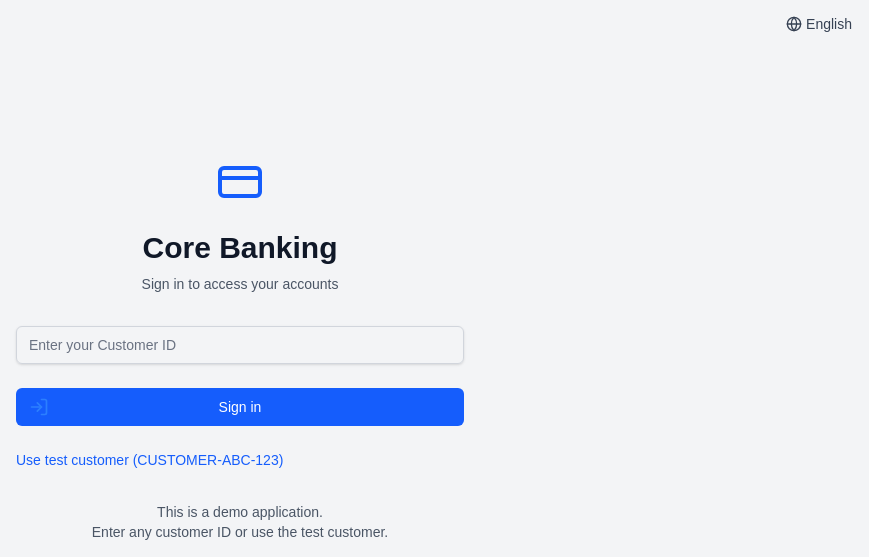
LoginForm › shows loading state during sign in
Type "CUSTOMER-ABC-123" into the field with placeholder "Enter your Customer ID" at point(240, 345), box x1=16 y1=326 x2=464 y2=364
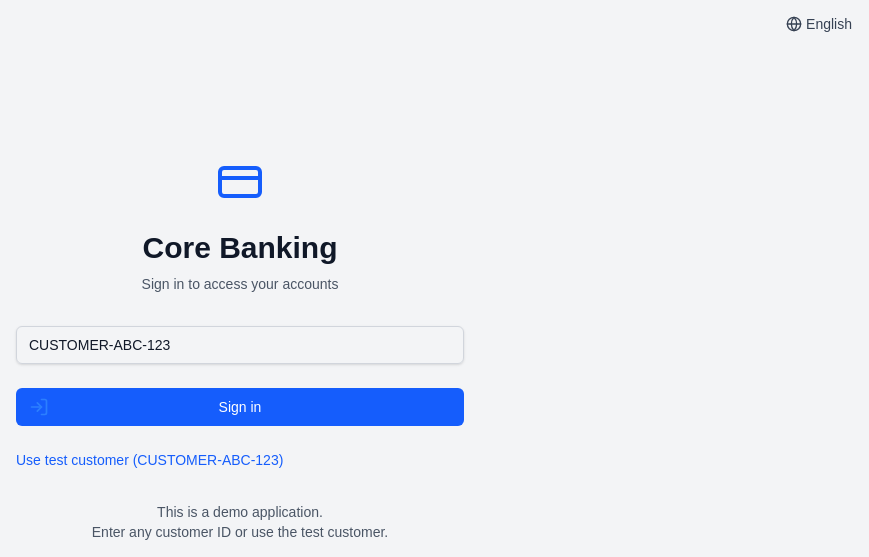
Click the button "Sign in" at point(240, 407), box x1=16 y1=388 x2=464 y2=426
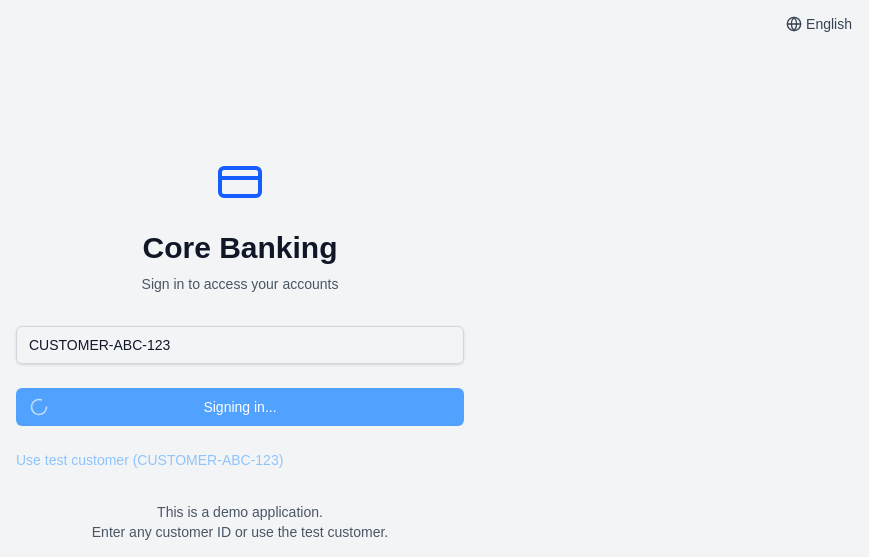
Expected: the field with placeholder "Enter your Customer ID" is disabled, x1=16 y1=326 x2=464 y2=364
Expected: the button "Signing in..." is disabled, x1=16 y1=388 x2=464 y2=426
